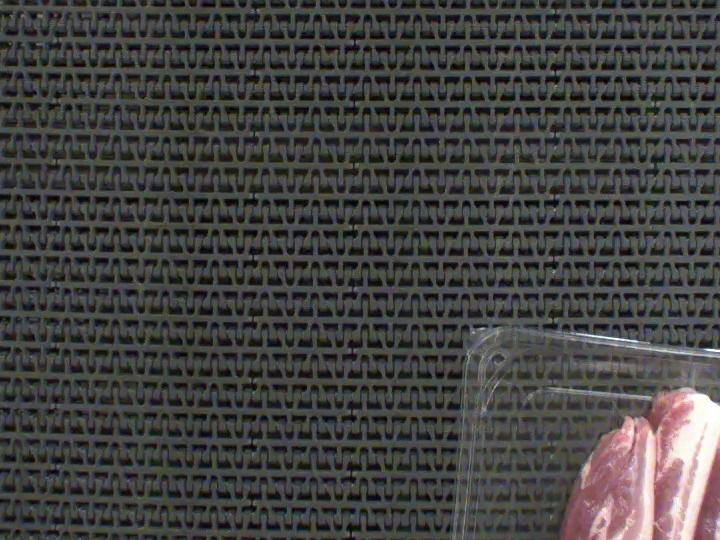packaging-error: (676, 347, 703, 393)
